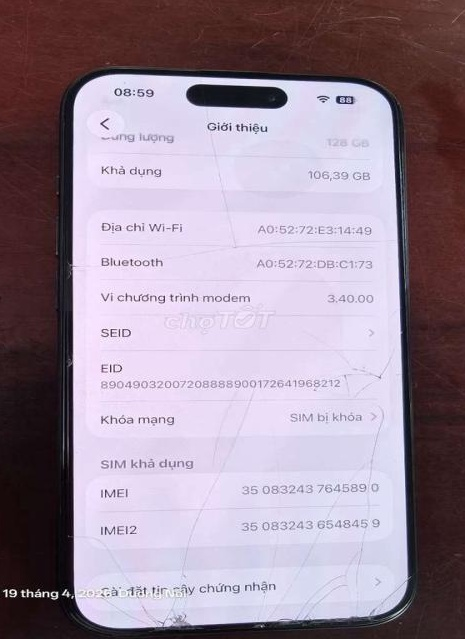physical_damage: (177, 496, 214, 564), (299, 328, 356, 366), (207, 387, 240, 451), (260, 522, 290, 578), (297, 576, 337, 611), (340, 545, 366, 598), (374, 576, 414, 603), (203, 455, 228, 492), (168, 563, 183, 611), (307, 525, 332, 551), (255, 578, 273, 612), (121, 609, 147, 630), (355, 365, 385, 383), (160, 609, 187, 627), (274, 613, 318, 624), (71, 528, 99, 545), (92, 590, 120, 607), (338, 369, 355, 397), (194, 244, 237, 255), (321, 498, 338, 524), (322, 611, 366, 621), (155, 250, 191, 262), (60, 261, 87, 277), (89, 260, 123, 272), (103, 539, 117, 567), (334, 472, 348, 500), (240, 385, 252, 417), (121, 569, 136, 593), (368, 609, 389, 626), (369, 398, 385, 420), (356, 455, 376, 472), (125, 259, 151, 272), (244, 240, 274, 250), (211, 158, 225, 179), (296, 558, 311, 575), (352, 239, 400, 244), (207, 140, 220, 158), (228, 221, 241, 239), (216, 178, 227, 199), (362, 495, 367, 541), (280, 240, 312, 247), (316, 239, 346, 246), (364, 470, 373, 493), (372, 421, 379, 449), (251, 618, 274, 626), (192, 74, 203, 87), (207, 124, 215, 139)
